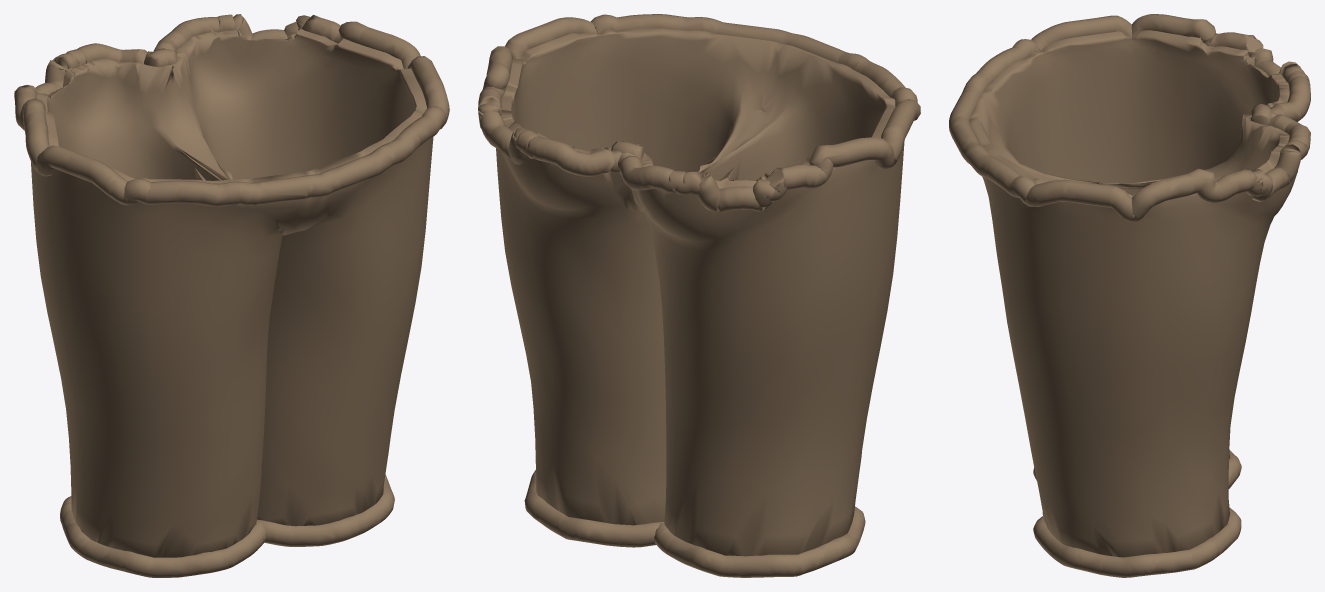
File: 4HT-masculino.glb
3 views of the same model, side by side, from view 1: azimuth 30°, elevation 25°; view 2: azimuth 150°, elevation 25°; view 3: azimuth 270°, elevation 25° (orthographic). The views are drawn at different scales.
Parts seen in each view (by area): view 1: fitted-shell, bound-edge (×3); view 2: fitted-shell, bound-edge (×3); view 3: fitted-shell, bound-edge (×2).
Part boxes in pixels (box(x1,y1,x2,y2)): fitted-shell: box(31, 28, 433, 557); bound-edge (×3): box(14, 14, 449, 577); fitted-shell: box(496, 28, 904, 556); bound-edge (×3): box(478, 14, 920, 577); fitted-shell: box(969, 30, 1297, 557); bound-edge (×2): box(949, 14, 1310, 577).
Size of the model in its own units: 0.0257 by 0.0275 by 0.0215.
